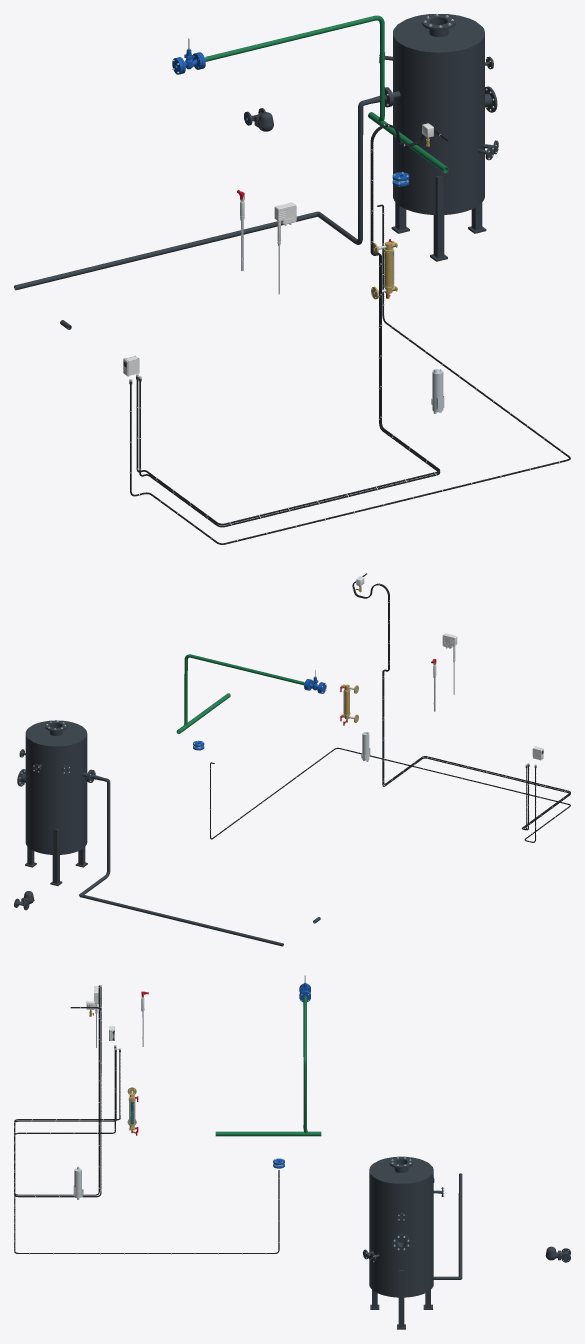
3 renders of one model, top to bottom at view 1: azimuth 30°, elevation 25°; view 2: azimuth 150°, elevation 25°; view 3: azimuth 270°, elevation 25°, orthographic. The views are drawn at different scales.
Visible parts, largest first — view 1: separator_bdv60_5 / dark, wiring_pump_2 / black, wiring_pressure_switch_2 / black, wiring_pressure_switch_1 / black, bottom_discharge / dark, to_direct / green, bottom_to_bdv / dark, sight_glasses_2 / sight_glasses_2_0.npz; view 2: separator_bdv60_5 / dark, wiring_pressure_switch_2 / black, wiring_pump_2 / black, wiring_pressure_switch_1 / black, bottom_discharge / dark, to_direct / green, bottom_to_bdv / dark; view 3: separator_bdv60_5 / dark, wiring_pressure_switch_2 / black, wiring_pressure_switch_1 / black, wiring_pump_2 / black, pump_delivery / green, to_direct / green, bottom_discharge / dark.
Boxes of the visible parts, <box> form: separator_bdv60_5 / dark: <box>379,14,498,261</box>; wiring_pump_2 / black: <box>130,204,570,544</box>; wiring_pressure_switch_2 / black: <box>136,125,440,525</box>; wiring_pressure_switch_1 / black: <box>139,124,448,527</box>; bottom_discharge / dark: <box>14,211,317,290</box>; to_direct / green: <box>205,15,384,121</box>; bottom_to_bdv / dark: <box>317,88,391,244</box>; sight_glasses_2 / sight_glasses_2_0.npz: <box>371,239,397,299</box>; separator_bdv60_5 / dark: <box>17,720,91,885</box>; wiring_pressure_switch_2 / black: <box>353,581,570,830</box>; wiring_pump_2 / black: <box>210,747,570,842</box>; wiring_pressure_switch_1 / black: <box>352,573,570,830</box>; bottom_discharge / dark: <box>79,894,283,946</box>; to_direct / green: <box>177,654,304,733</box>; bottom_to_bdv / dark: <box>79,770,110,895</box>; separator_bdv60_5 / dark: <box>363,1156,443,1329</box>; wiring_pressure_switch_2 / black: <box>14,985,120,1195</box>; wiring_pressure_switch_1 / black: <box>14,985,116,1197</box>; wiring_pump_2 / black: <box>14,1049,279,1253</box>; pump_delivery / green: <box>215,1131,321,1136</box>; to_direct / green: <box>303,995,308,1133</box>; bottom_discharge / dark: <box>458,1173,462,1279</box>.
Size of the model in its own units: 5.49 by 3.09 by 6.6.
